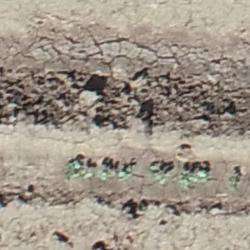cotton: (69, 161, 81, 170), (184, 174, 197, 182), (200, 171, 209, 181), (154, 170, 164, 179), (230, 178, 238, 189), (120, 171, 132, 178), (99, 169, 109, 177), (85, 168, 93, 175)
